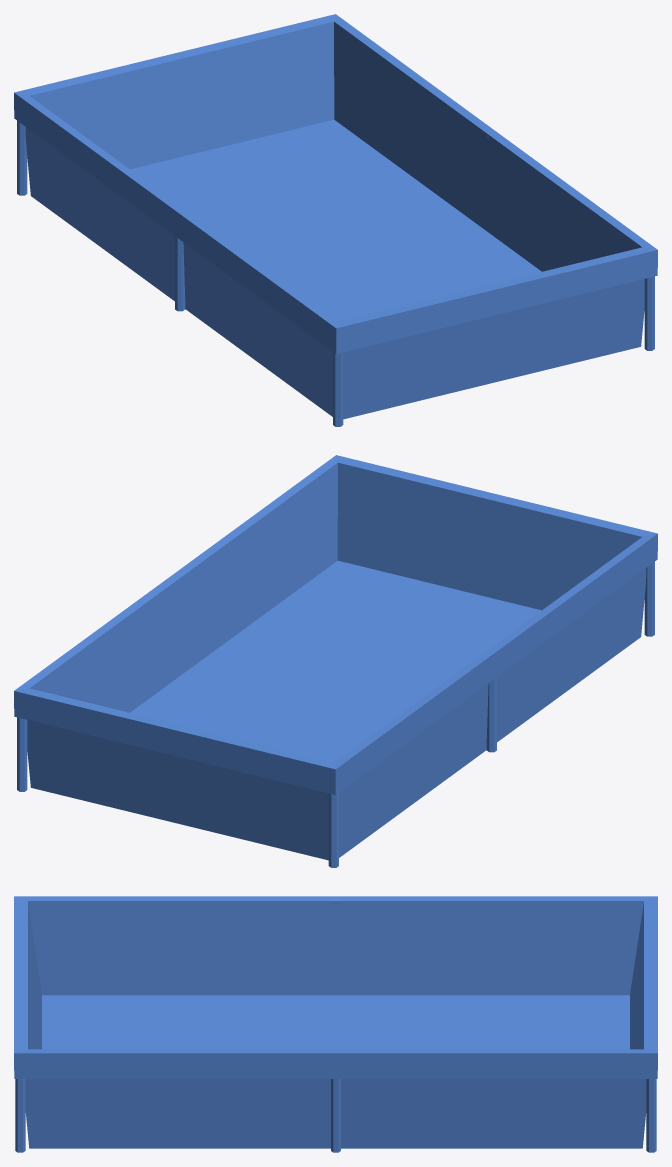
Rendered from Pool.fbx.
3 renders of one model, top to bottom at view 1: azimuth 30°, elevation 25°; view 2: azimuth 150°, elevation 25°; view 3: azimuth 270°, elevation 25°, orthographic.
Parts seen in each view (by area): view 1: Cube; view 2: Cube; view 3: Cube.
Boxes of the visible parts, x1,y1,x2,y2 form: Cube: [14, 14, 657, 426]; Cube: [14, 455, 657, 867]; Cube: [14, 896, 657, 1152].
Size of the model in its own units: 675 by 201 by 1170.
